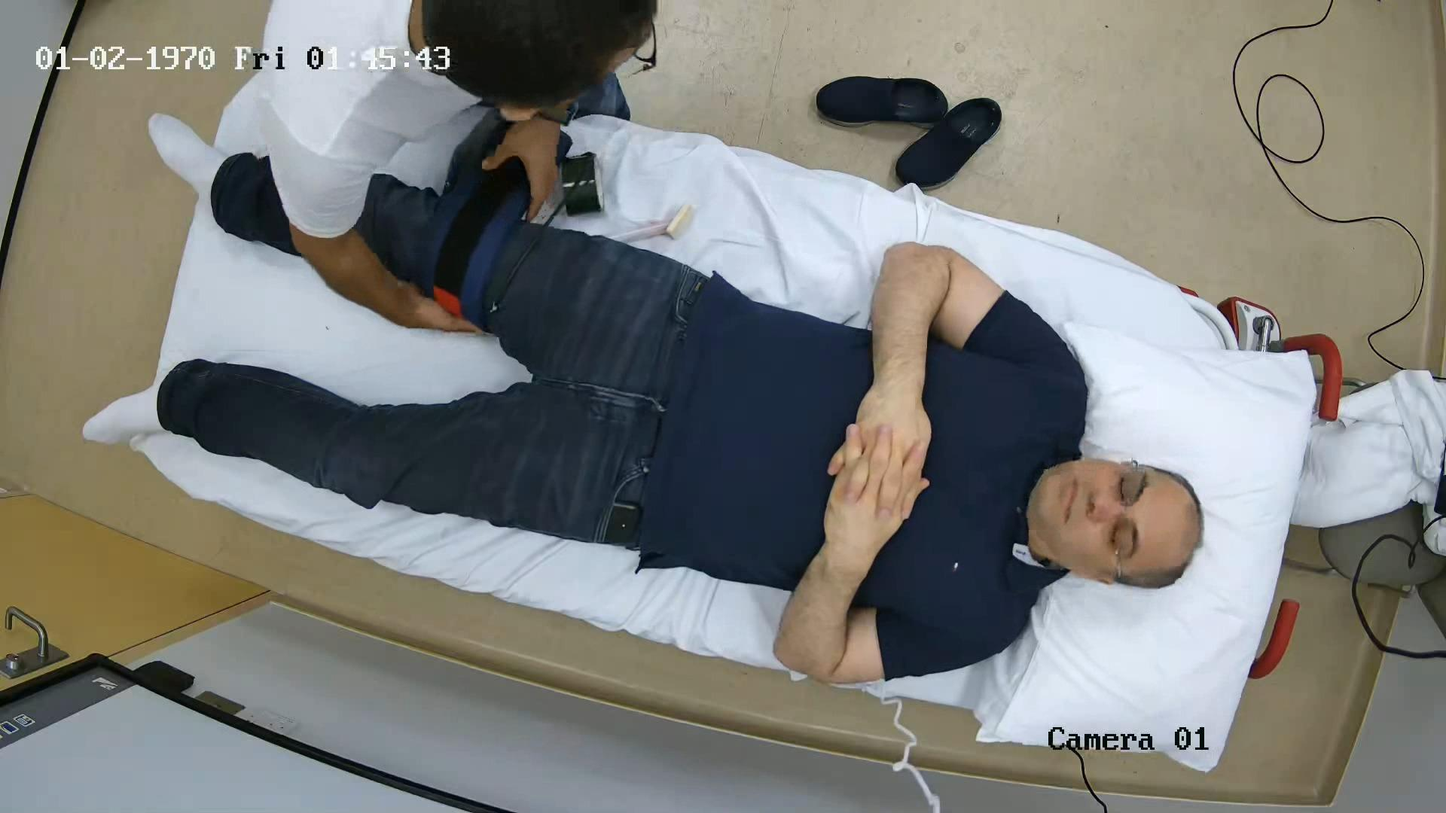bed: (134, 61, 1341, 772)
patient: (157, 154, 1201, 683)
prepstick: (606, 205, 692, 242)
tourniquet: (412, 154, 531, 330)
